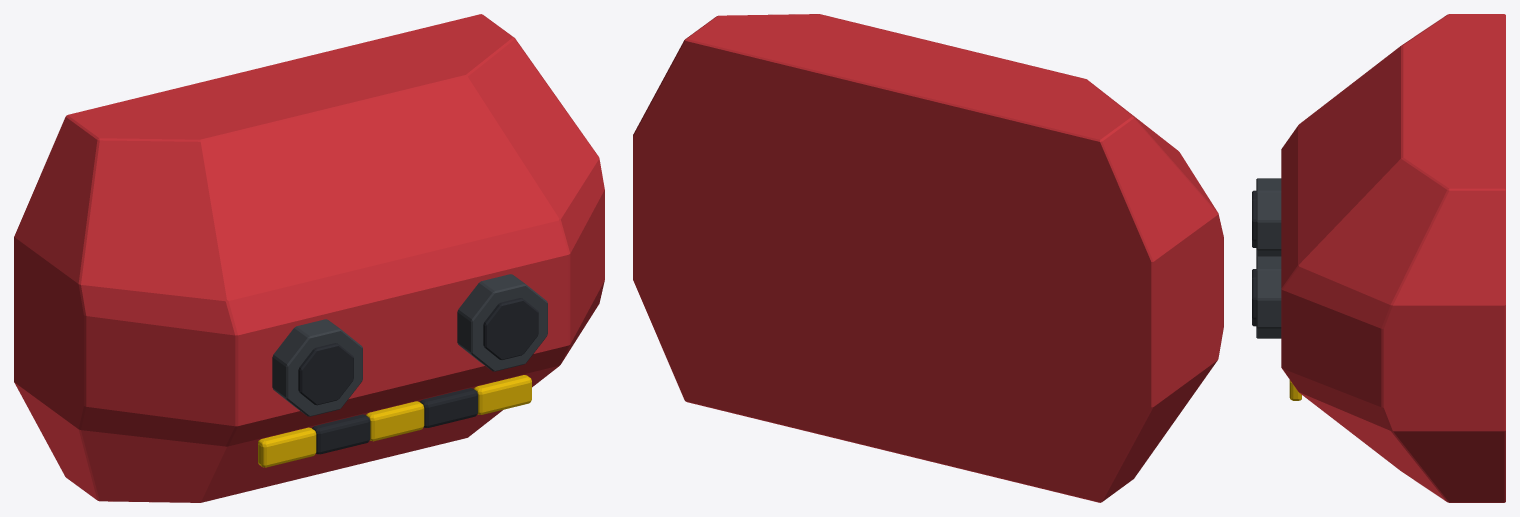
Rendered from HandBack_Set04_Ripjaw.fbx.
The picture shows the model from 3 angles, left to right: view 1: azimuth 30°, elevation 25°; view 2: azimuth 150°, elevation 25°; view 3: azimuth 270°, elevation 25°; orthographic projection. The views are drawn at different scales.
Parts seen in each view (by area): view 1: HandBack_Set04_Ripjaw; view 2: HandBack_Set04_Ripjaw; view 3: HandBack_Set04_Ripjaw.
Part boxes in pixels (x1,y1,x2,y2): HandBack_Set04_Ripjaw: (14,14,604,502); HandBack_Set04_Ripjaw: (633,14,1223,502); HandBack_Set04_Ripjaw: (1252,14,1505,502).
Bounding box in the file's own units: 0.3 × 0.2 × 0.1464.
